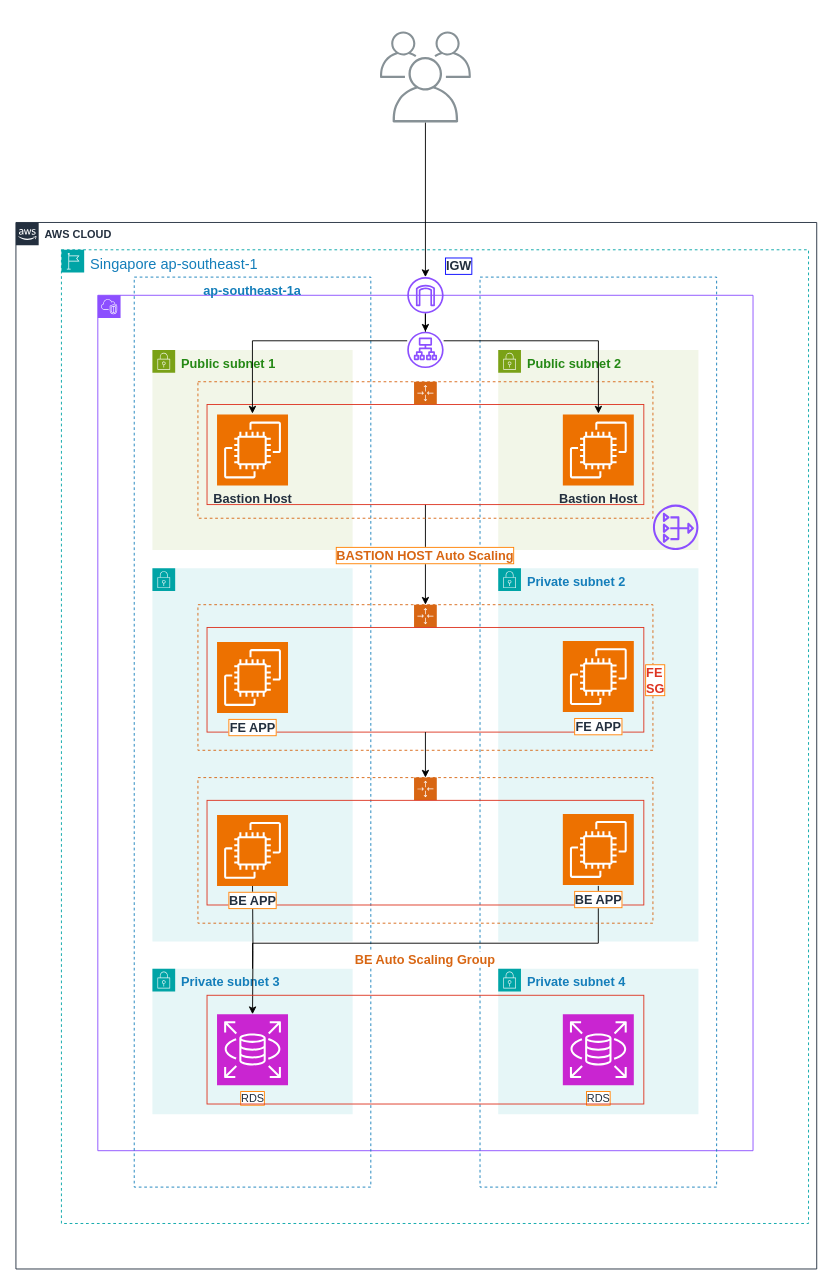
The diagram is 833 pixels wide and 1285 high, and some of its shapes have lost their labels. Here are the shapes that lost their labels. From the top down, the box of each, then its label:
(379, 31, 470, 122): users
(407, 331, 443, 368): Application Load Balancer
(206, 404, 644, 505): Bastion SG
(652, 504, 698, 550): NAT Gateway
(197, 604, 653, 750): FE Auto Scaling Group
(97, 294, 753, 1151): Demo VPC
(479, 276, 717, 1187): ap-southeast-1b
(152, 567, 353, 941): Private subnet 1
(206, 799, 644, 905): BE SG
(206, 994, 644, 1104): DB SG
